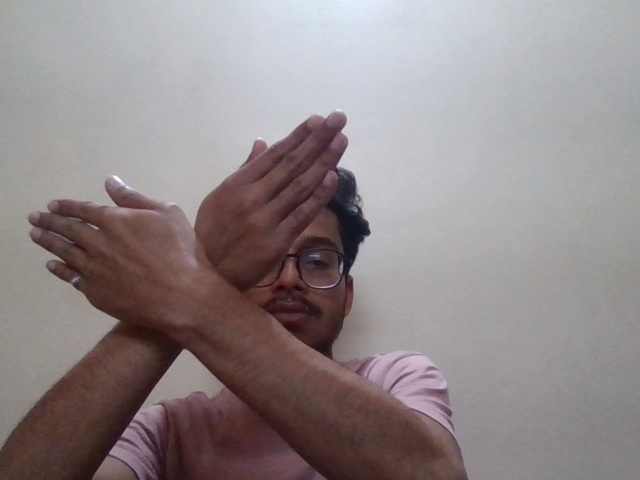feel: (26, 105, 365, 343)
